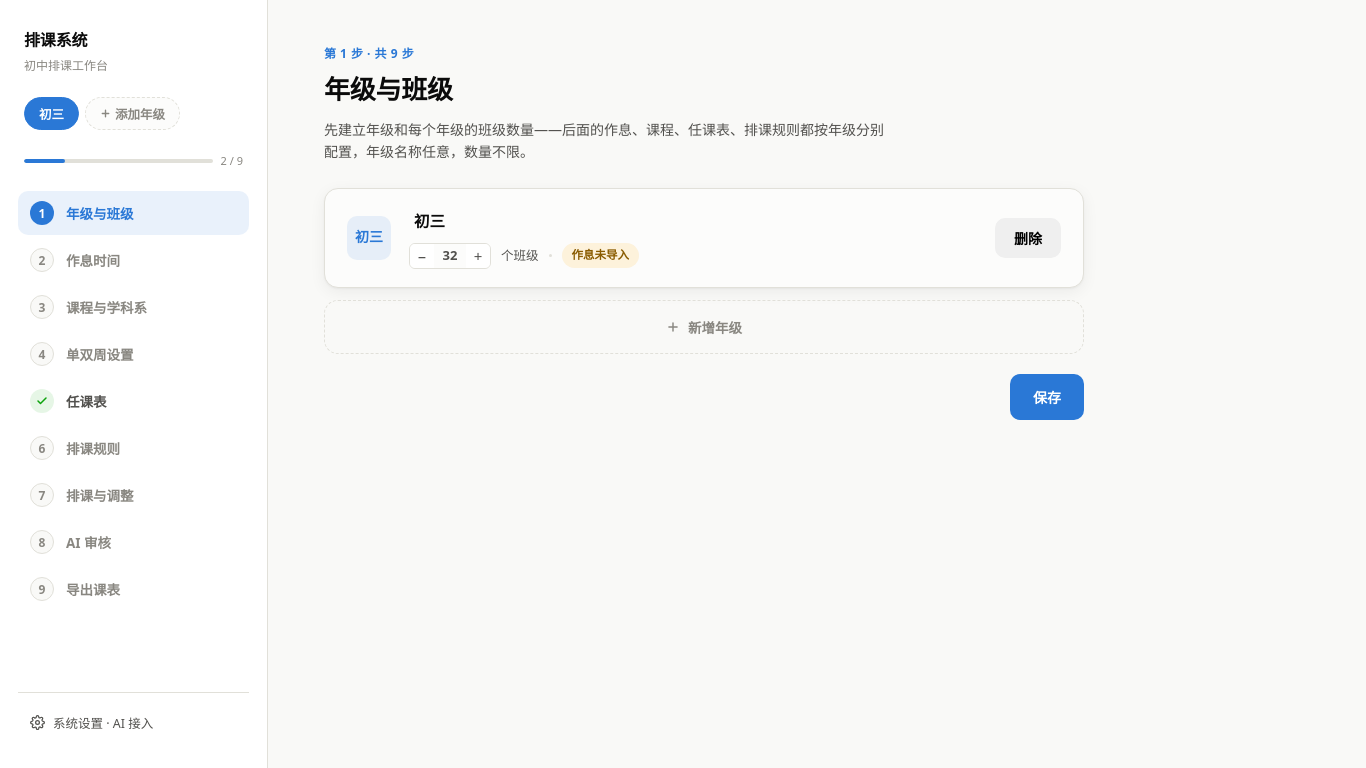
App navigation › reaching step 7 shows the solve panel and candidate tabs
The image size is (1366, 768).
What coordinates should you click on to do the following:
click the button with test id "nav-step" showing "7 排课与调整"
I would click on:
 (134, 495)
Its box is [18,473,249,517].
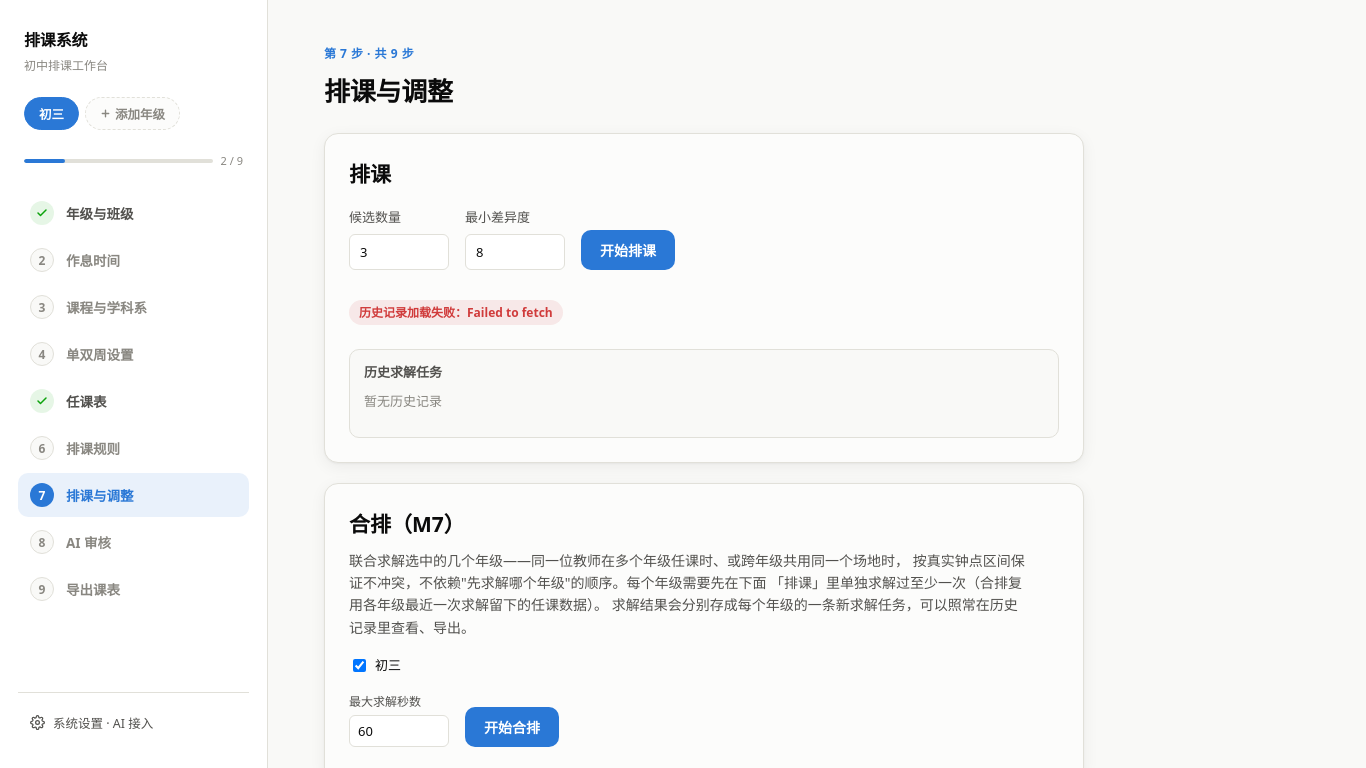
Expected: the element showing "排课 候选数量 最小差异度 开始排课 历史记录加载失败：Failed to fetch 历史求解任务 暂无历史记录" is shown, [324,133,1084,463]
